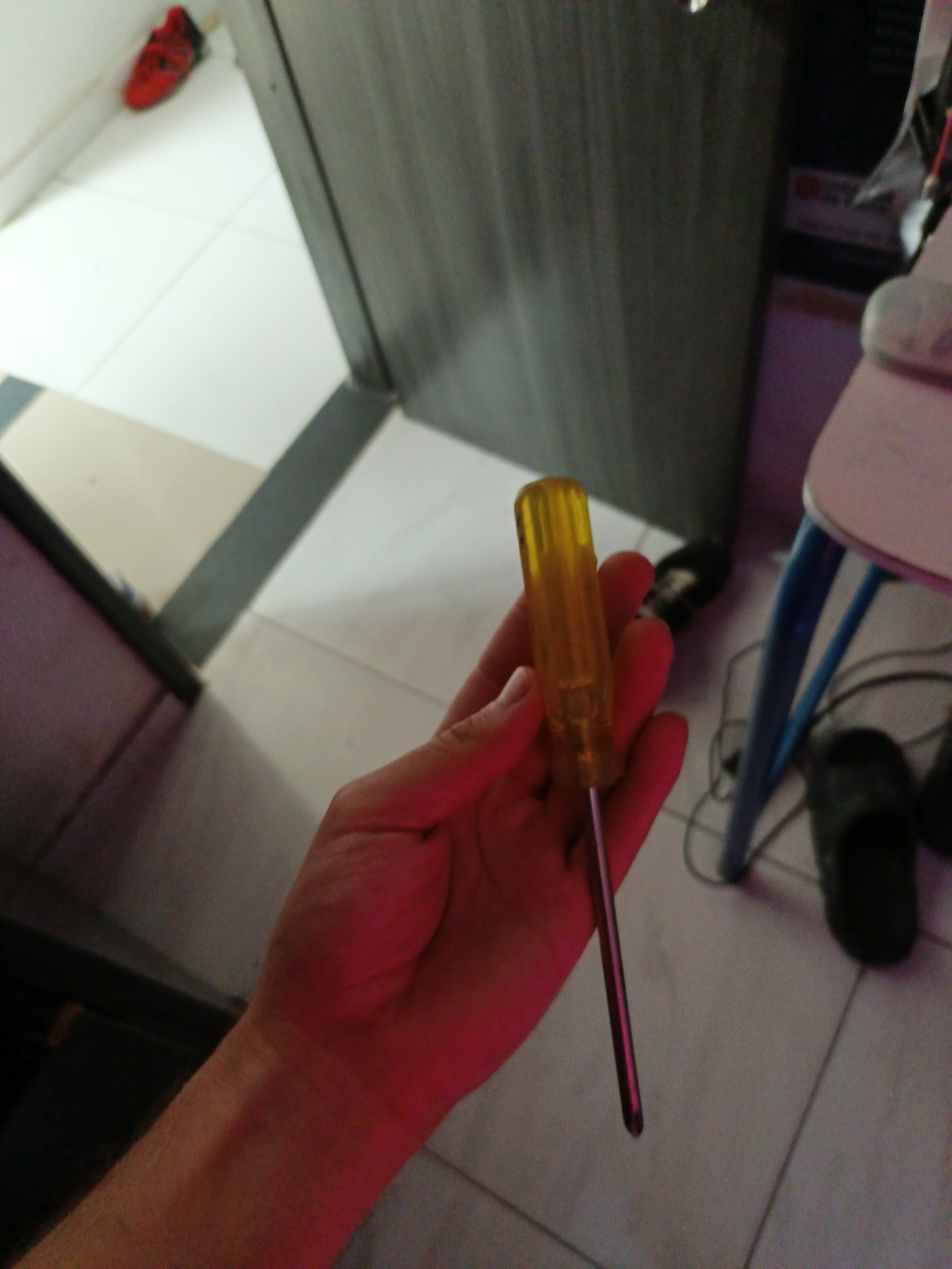Destornillador: (516, 478, 643, 1136)
